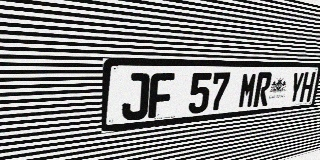5: (188, 73, 212, 114)
7: (208, 73, 231, 112)
F: (148, 73, 175, 118)
H: (299, 72, 316, 102)
J: (121, 73, 150, 121)
M: (237, 72, 258, 109)
R: (253, 72, 273, 107)
Y: (287, 72, 305, 104)
